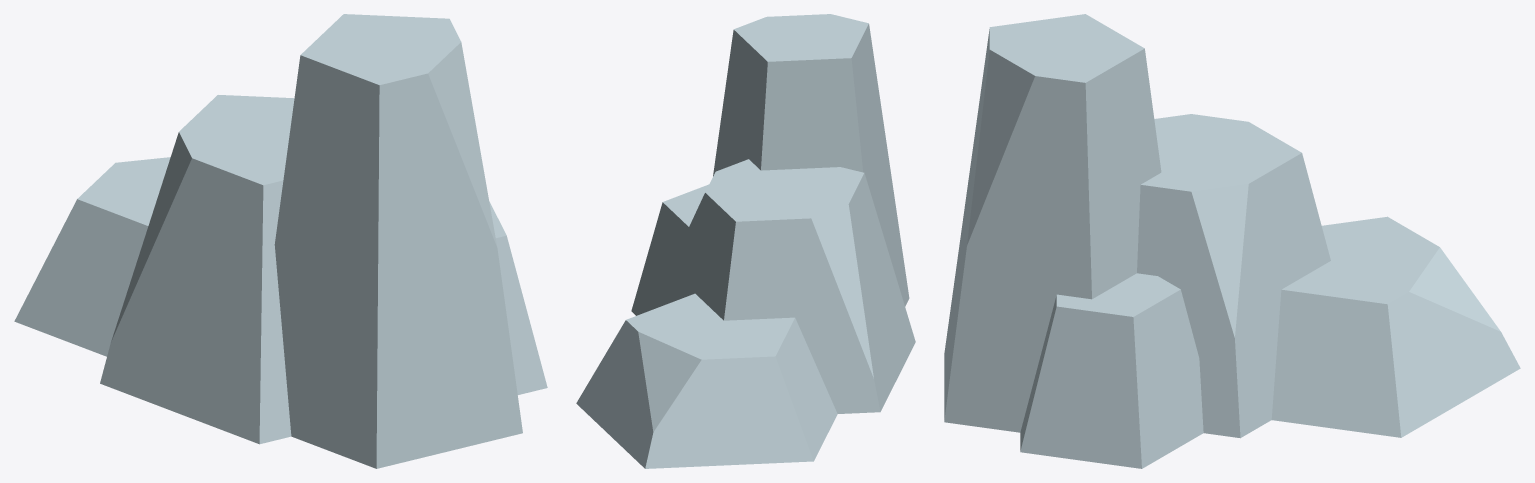
Rendered from rock_wide.glb.
3 views of the same model, side by side, from view 1: azimuth 30°, elevation 25°; view 2: azimuth 150°, elevation 25°; view 3: azimuth 270°, elevation 25° (orthographic). The views are drawn at different scales.
Visible parts, largest first — view 1: rockWide; view 2: rockWide; view 3: rockWide.
Boxes of the visible parts, left/top/right/bottom form: rockWide: left=14, top=14, right=547, bottom=468; rockWide: left=576, top=14, right=915, bottom=468; rockWide: left=944, top=14, right=1520, bottom=468.
Size of the model in its own units: 1.09 by 1.02 by 1.57.
